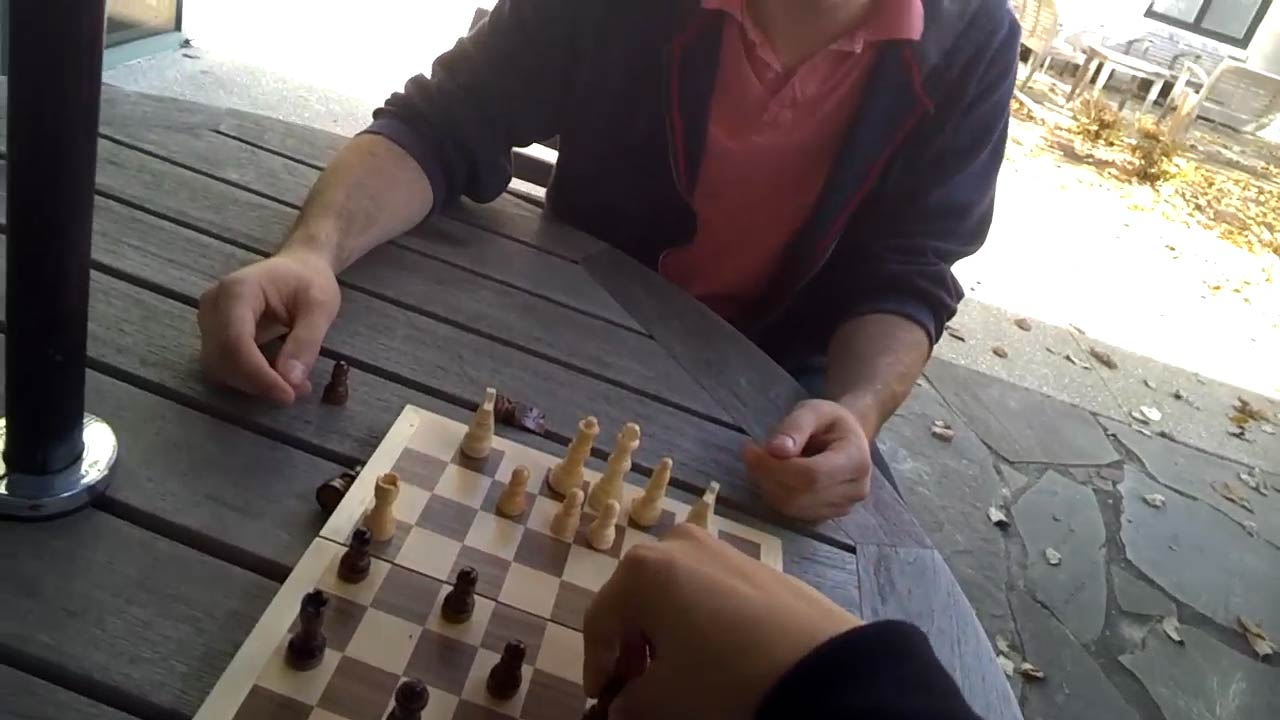hand: (583, 527, 855, 717), (198, 250, 341, 401), (747, 395, 873, 519)
